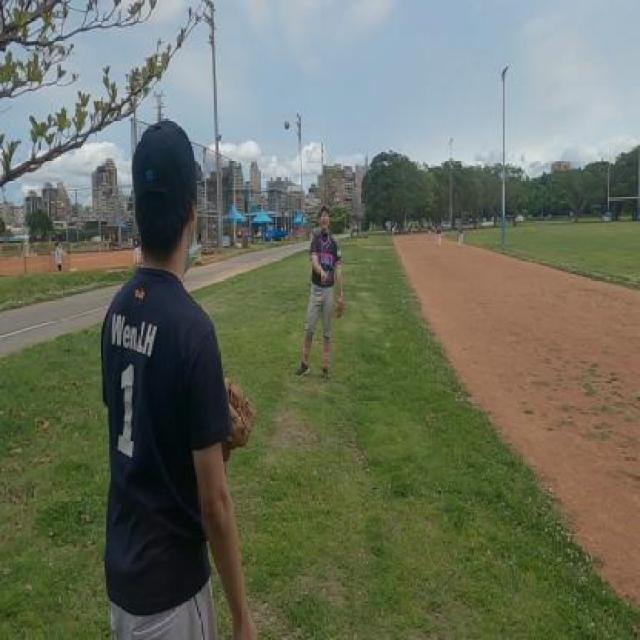baseball: (284, 118, 290, 131)
